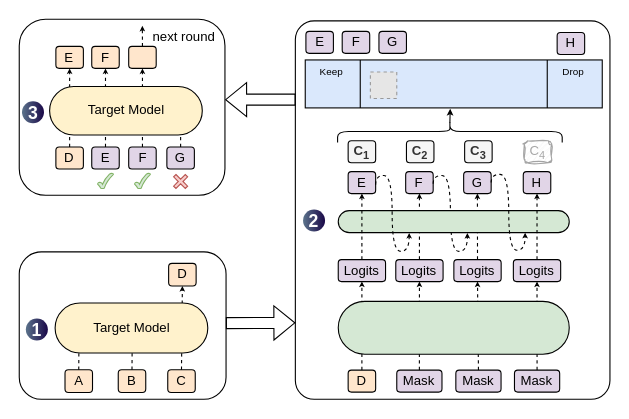
Some shapes in this 629 by 419 pixel diagram are drawn without their labels. Grey dashed boxes stand in for pictures. The shapes that lost their labels are listed below. From the top down, each one's box as (x1, y1, x2, y2) in pixels, then its label:
(128, 45, 156, 68): G*
(304, 59, 602, 108): Hardware-Aware Prefix Scheduler
(337, 210, 569, 233): Sequential Block
(337, 300, 569, 354): Parallel Block
